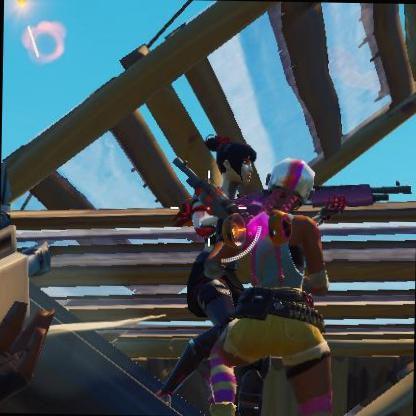person: (266, 154, 334, 404), (207, 135, 261, 201)
